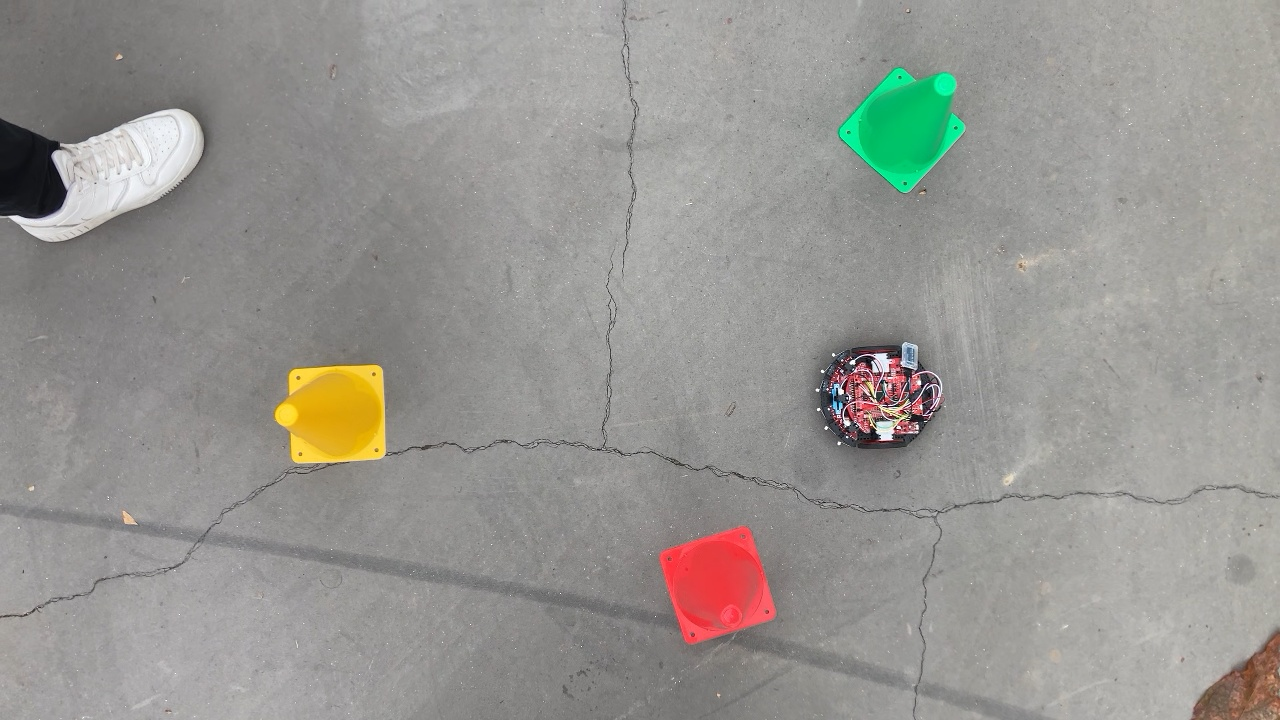green_cone: (834, 65, 972, 196)
red_cone: (654, 522, 779, 646)
robot: (811, 340, 947, 455)
yellow_cone: (276, 359, 388, 466)
